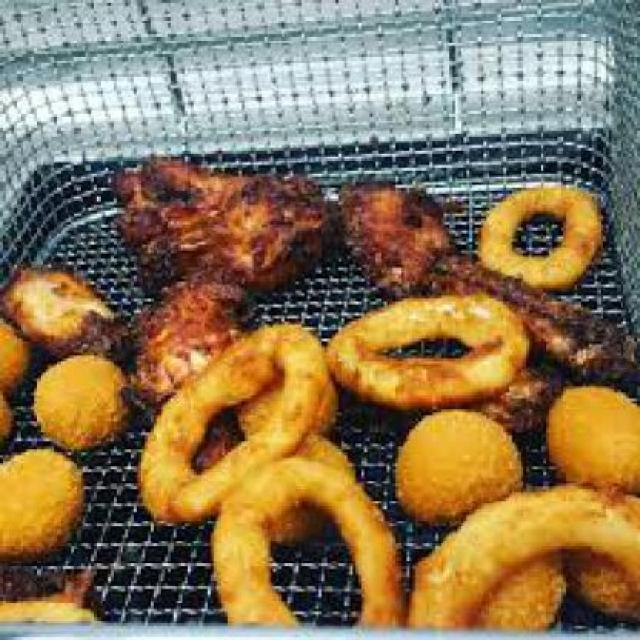onion rings: (165, 288, 626, 634), (467, 171, 615, 292)
